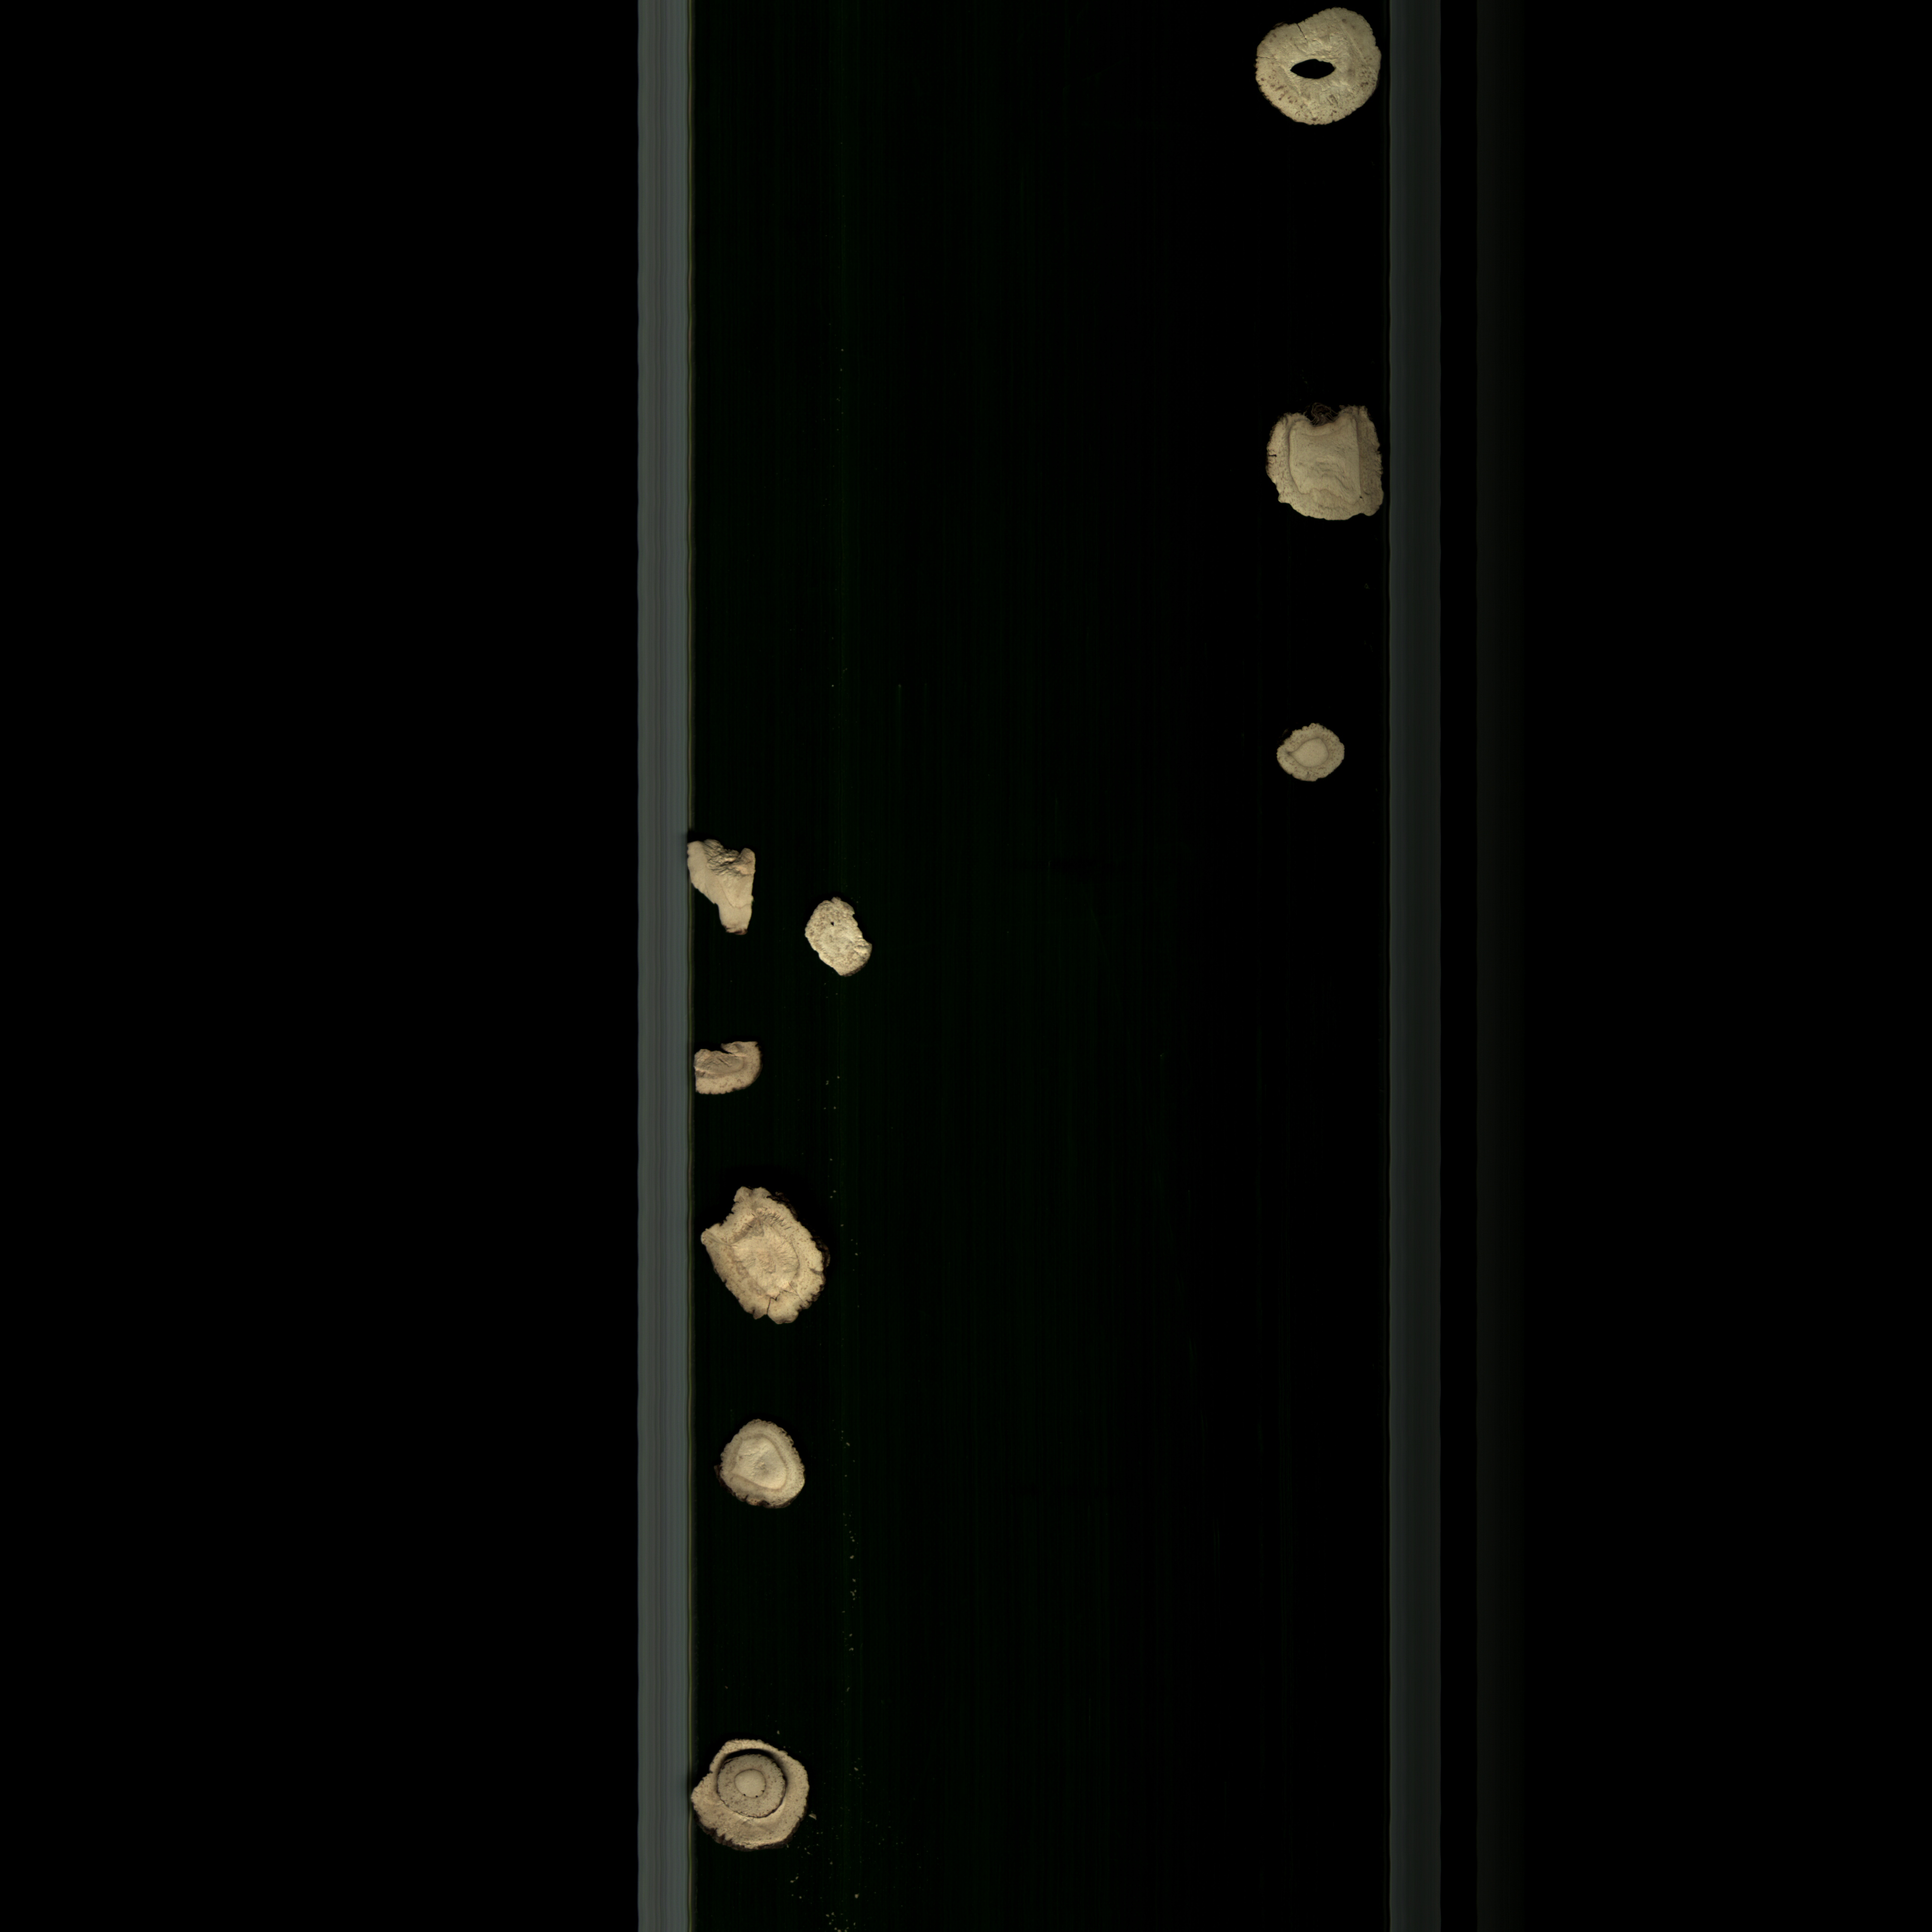debris: (678, 826, 773, 945), (794, 892, 879, 984)
distortion: (1256, 403, 1389, 525), (1265, 713, 1357, 791)
hole: (1246, 5, 1384, 134), (720, 1750, 787, 1826)
moldy: (692, 1177, 835, 1338), (713, 1408, 817, 1520), (685, 1033, 766, 1104)
